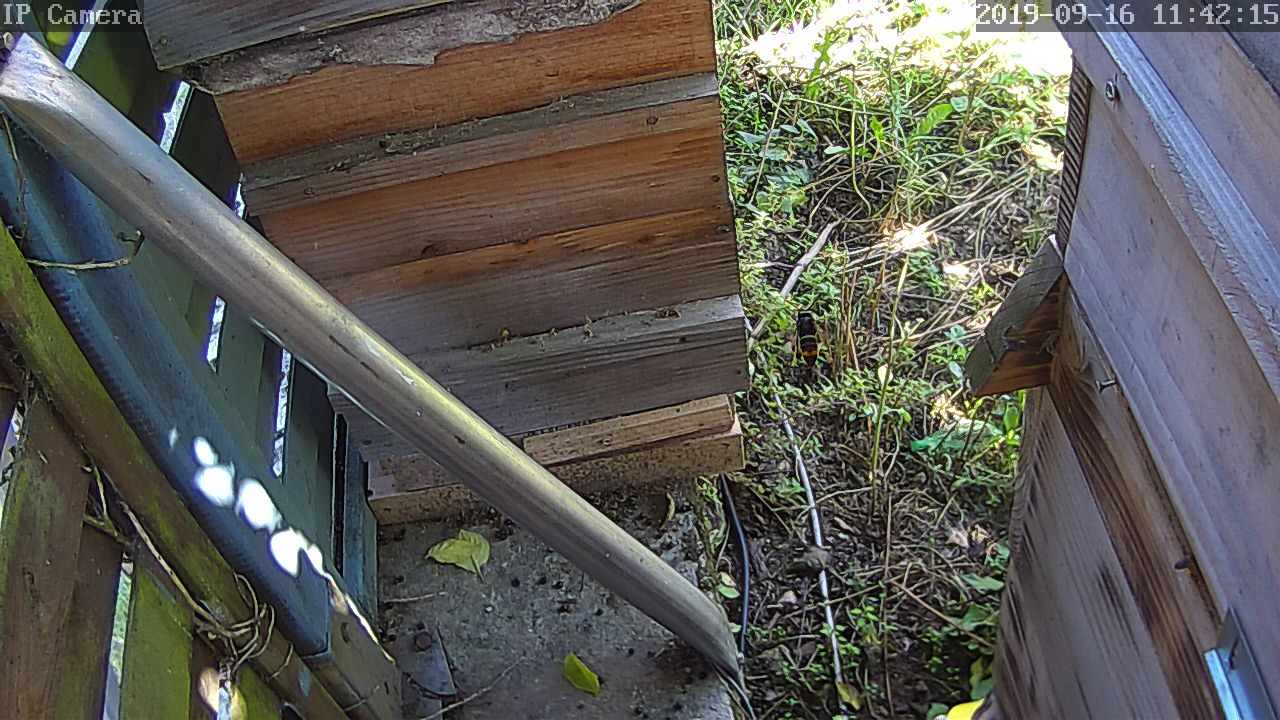hornet: (785, 305, 830, 373)
